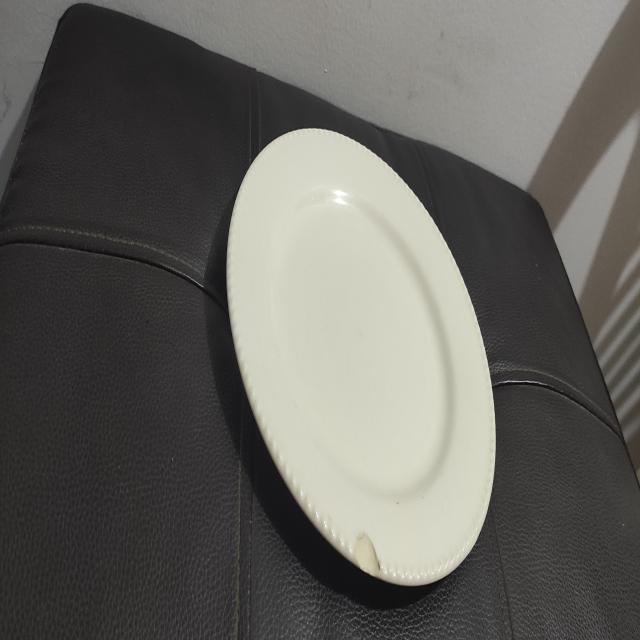ceramic plate: (212, 102, 506, 618)
